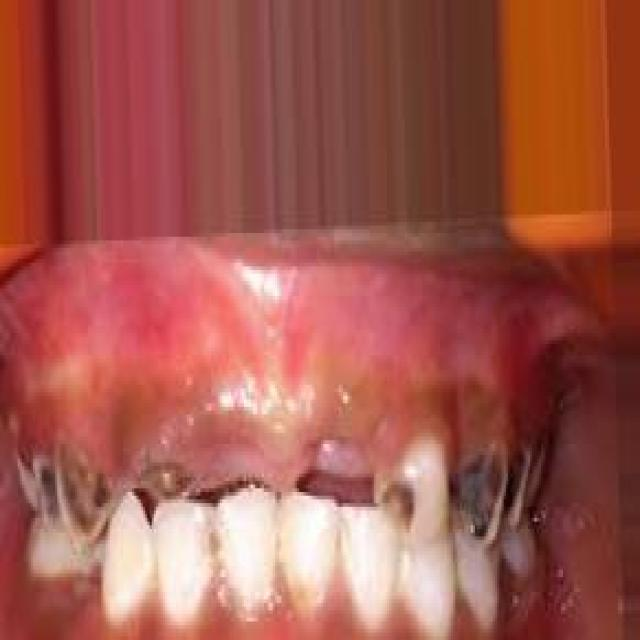caries: (53, 439, 122, 554), (444, 433, 502, 547), (373, 456, 428, 552), (134, 443, 202, 520), (501, 440, 534, 536), (32, 449, 64, 524)
